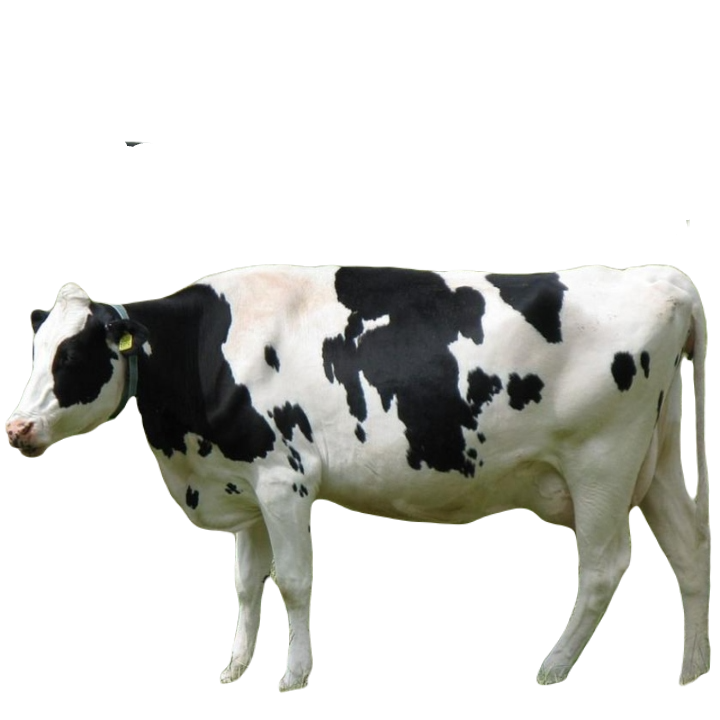Cow: (7, 258, 719, 692)
